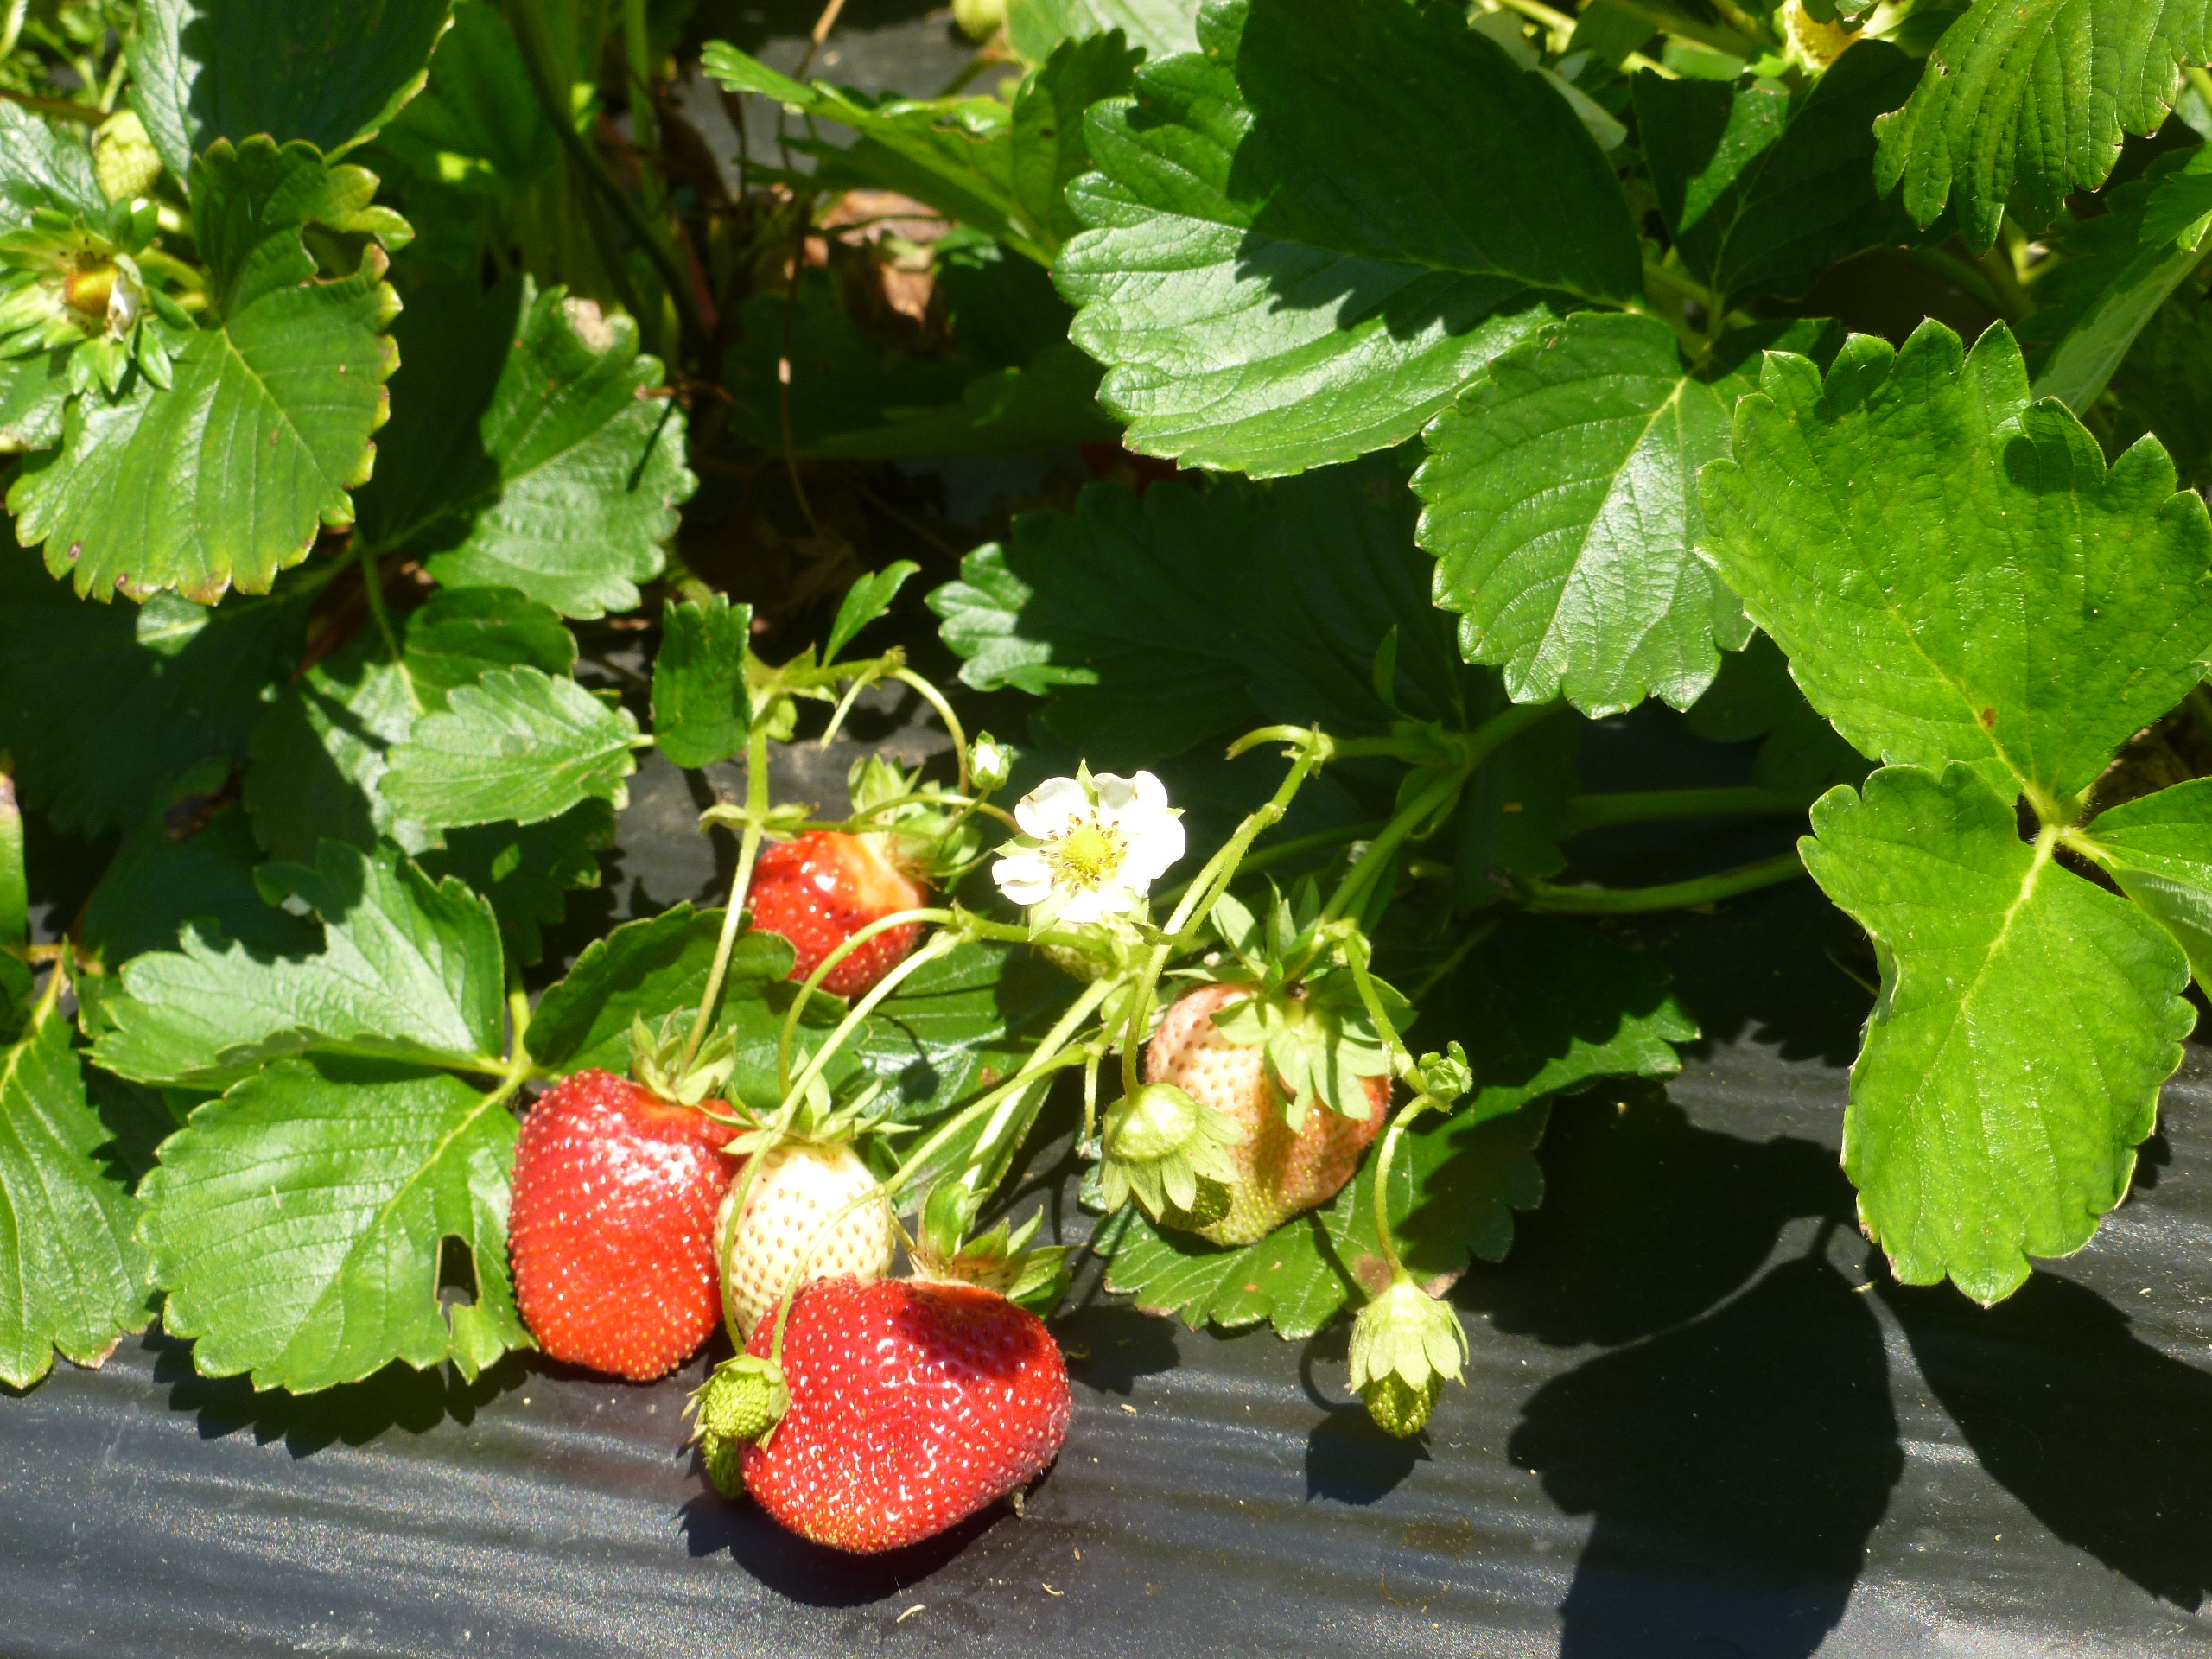ripe_strawberry: (726, 1255, 1083, 1568), (502, 1051, 761, 1382), (725, 807, 948, 995)
unripe_strawberry: (1141, 946, 1402, 1249), (714, 1100, 914, 1356), (1345, 1276, 1468, 1448), (690, 1351, 796, 1439), (89, 105, 169, 209), (1038, 913, 1143, 983), (688, 1398, 752, 1506)
